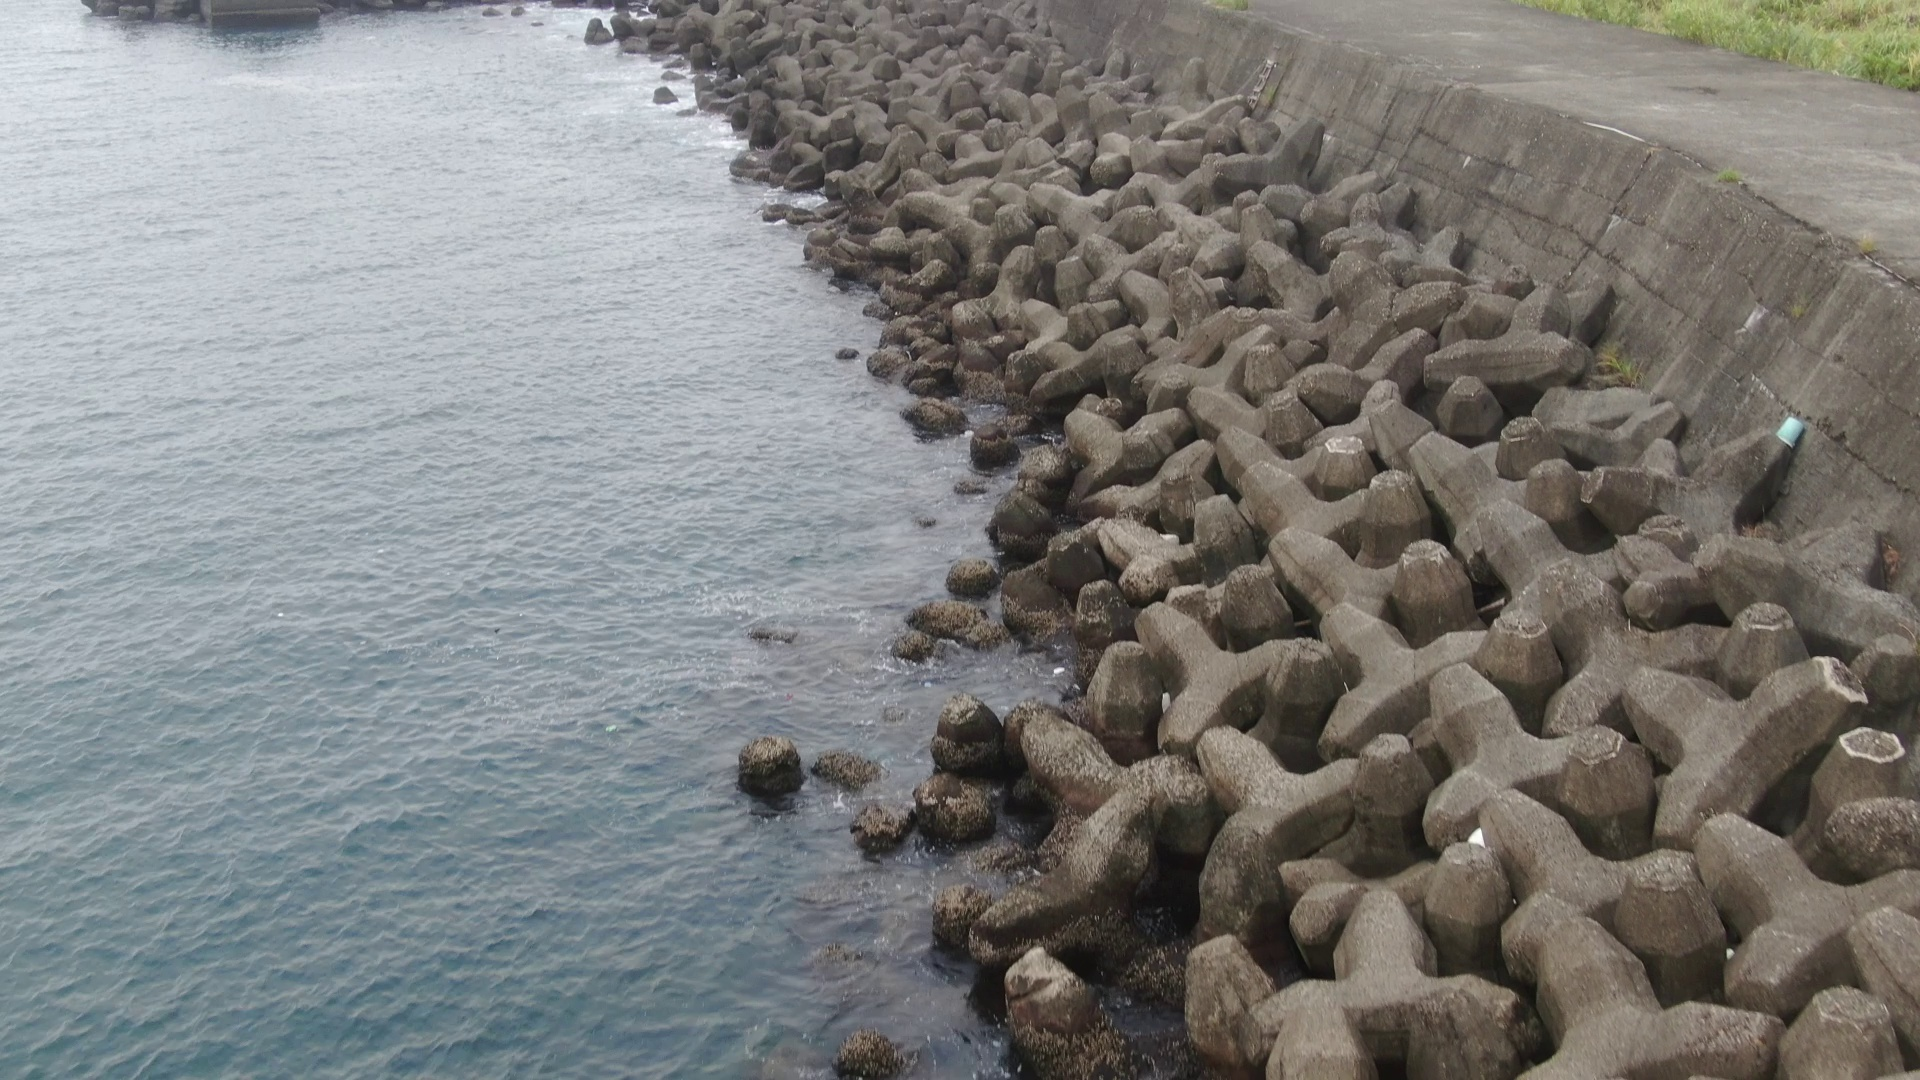garbage: (1457, 822, 1509, 869), (1771, 410, 1811, 451)
